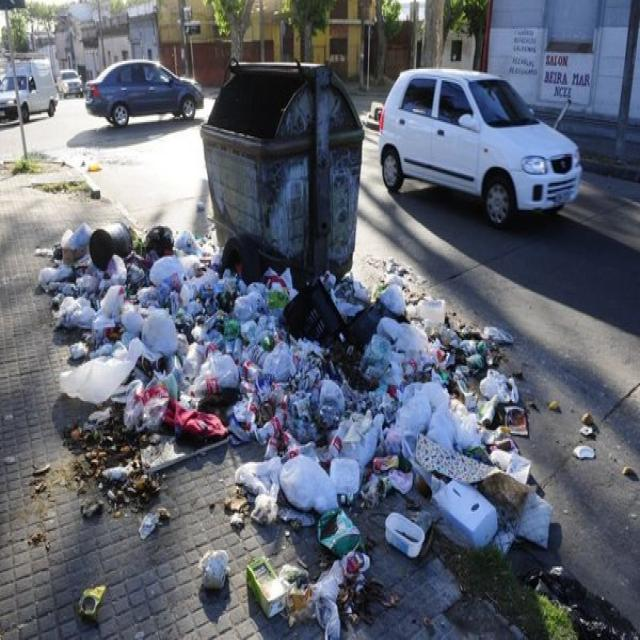garbage: (39, 261, 472, 637), (476, 321, 563, 601), (33, 204, 221, 264), (566, 407, 640, 490), (72, 140, 104, 194)
